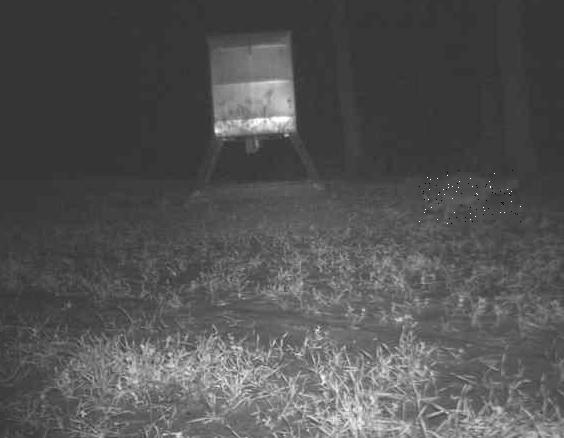Raccoon: (416, 170, 521, 224)
